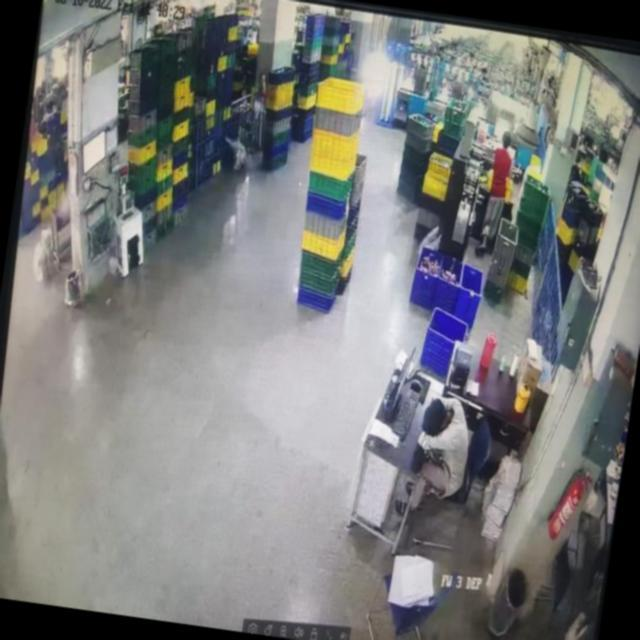person: (396, 387, 482, 528), (478, 126, 518, 262)
